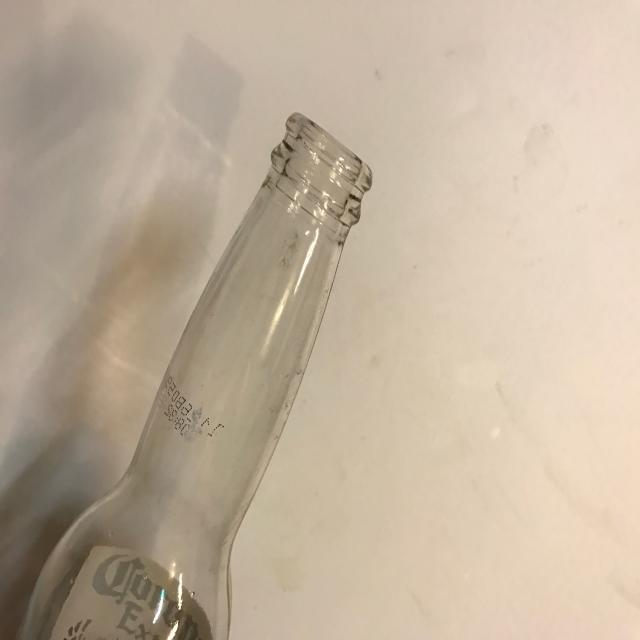glass: (16, 110, 373, 639)
